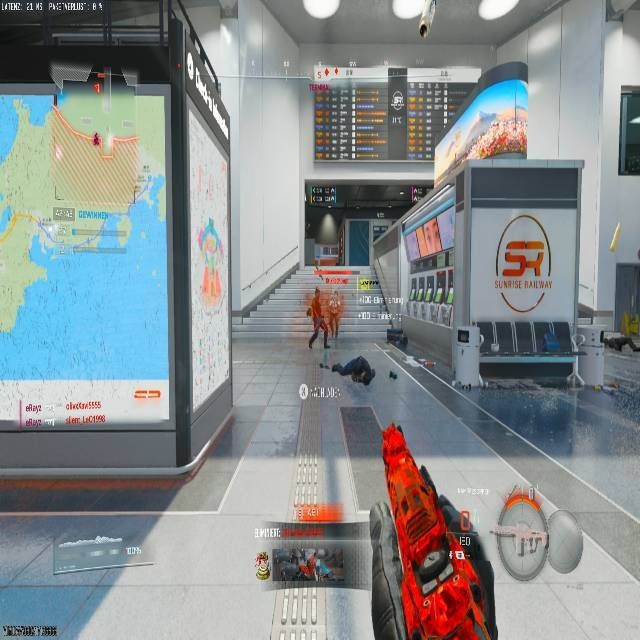player: (306, 290, 336, 349)
